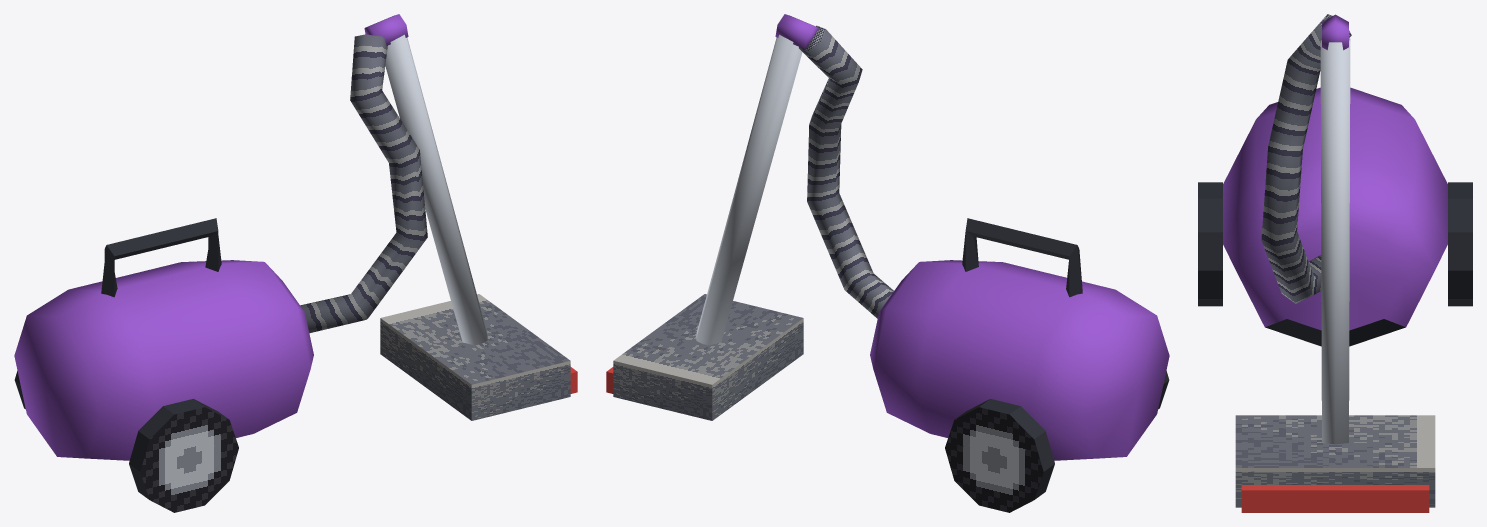
The model's file is home-vacuumCleaner.glb.
The picture shows the model from 3 angles, left to right: view 1: azimuth 30°, elevation 25°; view 2: azimuth 150°, elevation 25°; view 3: azimuth 270°, elevation 25°; orthographic projection. The views are drawn at different scales.
Parts seen in each view (by area): view 1: home.vacuumCleaner; view 2: home.vacuumCleaner; view 3: home.vacuumCleaner.
Boxes of the visible parts, x1=… form: home.vacuumCleaner: x1=14, y1=14, x2=577, y2=512; home.vacuumCleaner: x1=606, y1=14, x2=1169, y2=512; home.vacuumCleaner: x1=1198, y1=14, x2=1472, y2=512.
Bounding box in the file's own units: 1.56 × 1.17 × 0.6952.
7 materials, 5 textured.
